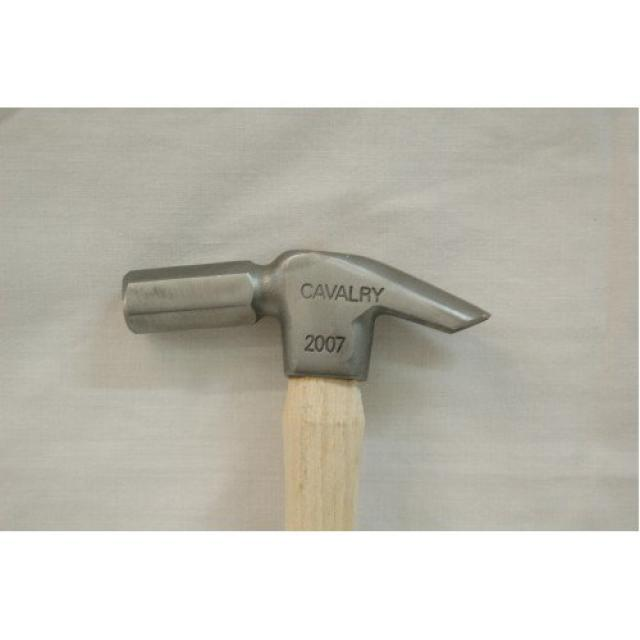hammer: (116, 238, 497, 529)
